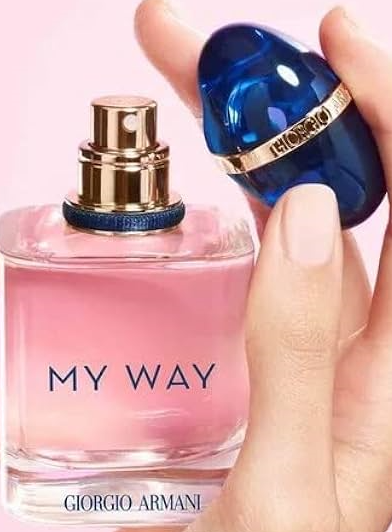armani_my_way_floral: (3, 44, 376, 523)
